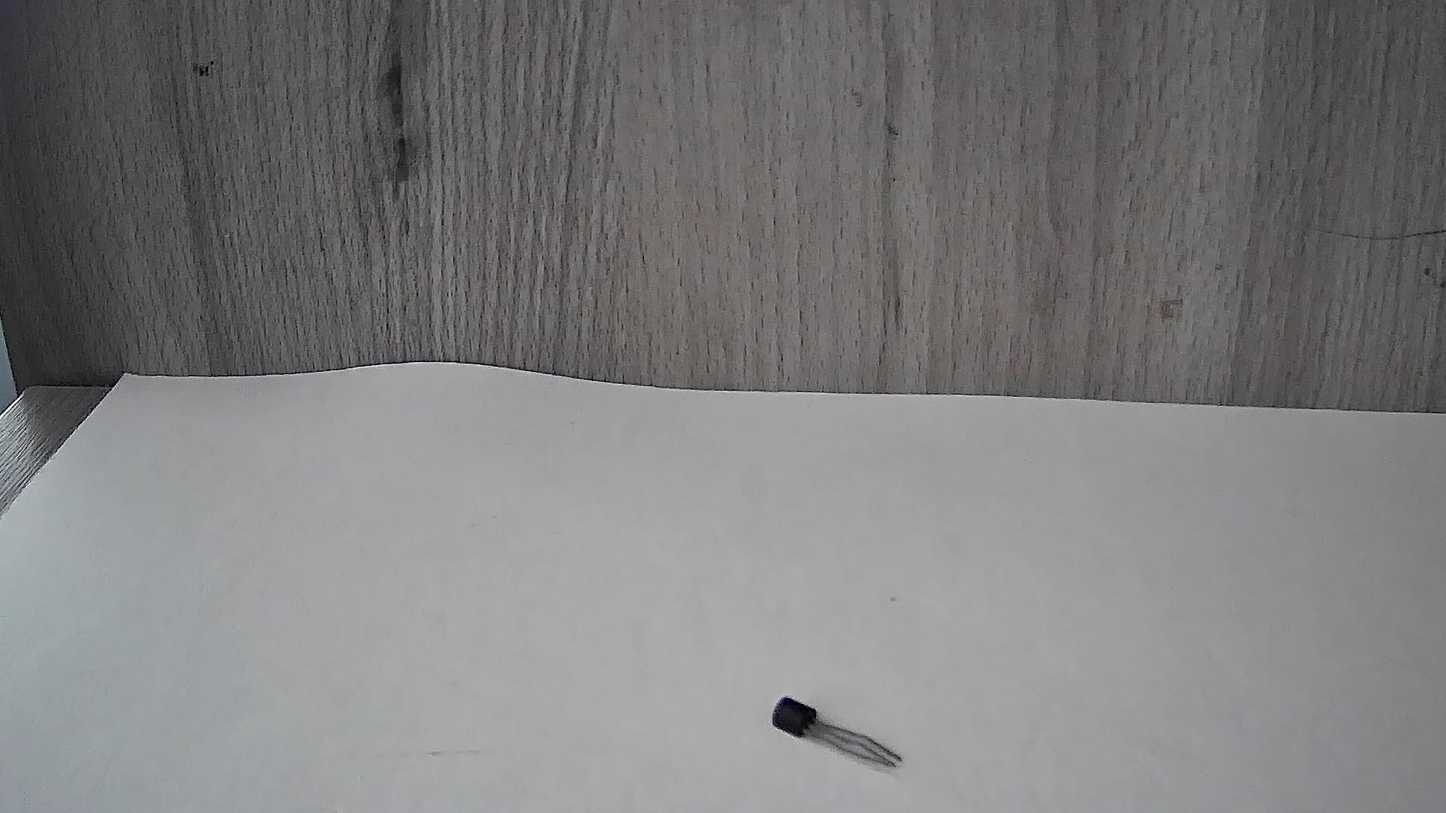Transistor: (754, 678, 919, 783)
